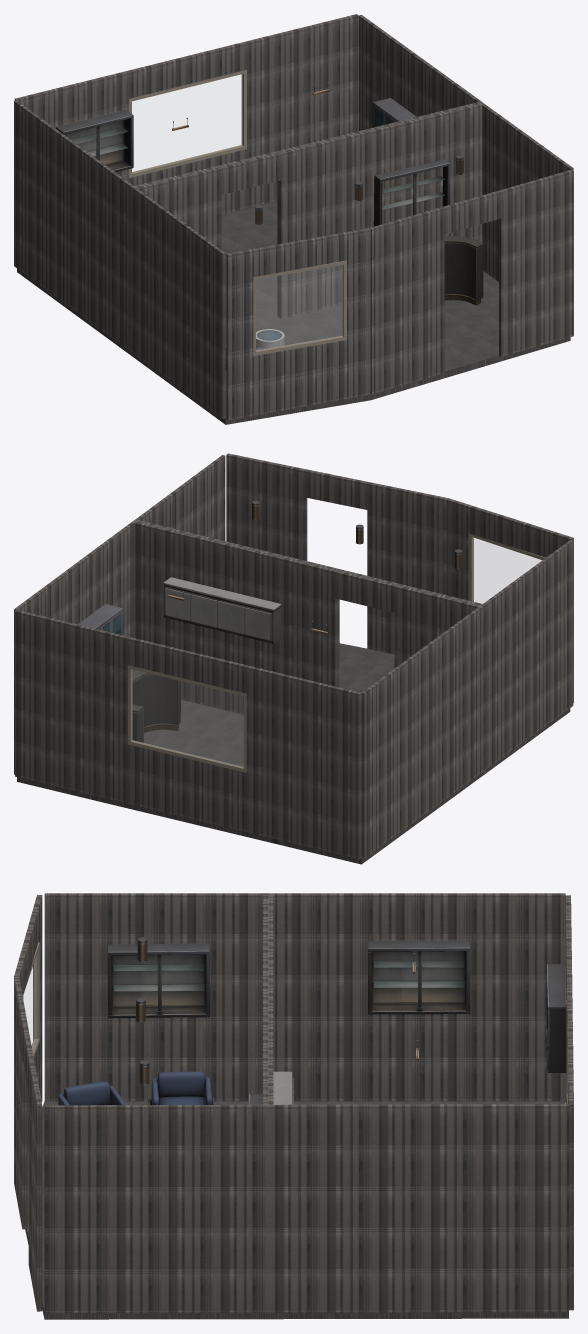
Rendered from modern-office.glb.
The picture shows the model from 3 angles, top to bottom: view 1: azimuth 30°, elevation 25°; view 2: azimuth 150°, elevation 25°; view 3: azimuth 270°, elevation 25°; orthographic projection. The views are drawn at different scales.
Parts seen in each view (by area): view 1: geometry_0.018, geometry_0.004, geometry_0.002, geometry_0.003, geometry_0.017, geometry_0.016, geometry_0.015, glass, geometry_0.001, glass.001, geometry_0.019, geometry_0 (+8 smaller); view 2: geometry_0.002, geometry_0.020, geometry_0.003, geometry_0.018, geometry_0.016, glass, geometry_0.001, geometry_0, geometry_0.011, geometry_0.017, geometry_0.019, geometry_0.006 (+6 smaller); view 3: geometry_0.001, geometry_0.003, geometry_0.019, geometry_0.016, geometry_0.007, geometry_0.026, geometry_0.018, geometry_0, geometry_0.015, geometry_0.002, geometry_0.005, geometry_0.017 (+7 smaller).
Part boxes in pixels (x1=…): geometry_0.018: x1=370, y1=169, x2=573, y2=394; geometry_0.004: x1=136, y1=103, x2=482, y2=318; geometry_0.002: x1=14, y1=14, x2=358, y2=214; geometry_0.003: x1=14, y1=100, x2=135, y2=352; geometry_0.017: x1=226, y1=228, x2=371, y2=420; geometry_0.016: x1=133, y1=187, x2=225, y2=418; geometry_0.015: x1=136, y1=271, x2=570, y2=424; glass: x1=132, y1=74, x2=242, y2=172; geometry_0.001: x1=359, y1=15, x2=482, y2=130; glass.001: x1=256, y1=265, x2=342, y2=350; geometry_0.019: x1=480, y1=103, x2=573, y2=281; geometry_0: x1=17, y1=201, x2=278, y2=358; geometry_0.002: x1=15, y1=610, x2=361, y2=859; geometry_0.020: x1=134, y1=521, x2=480, y2=714; geometry_0.003: x1=361, y1=605, x2=483, y2=858; geometry_0.018: x1=226, y1=453, x2=448, y2=654; geometry_0.016: x1=481, y1=540, x2=573, y2=770; glass: x1=132, y1=670, x2=243, y2=766; geometry_0.001: x1=14, y1=521, x2=135, y2=774; geometry_0: x1=17, y1=699, x2=480, y2=864; geometry_0.011: x1=163, y1=577, x2=281, y2=644; geometry_0.017: x1=446, y1=498, x2=573, y2=703; geometry_0.019: x1=134, y1=455, x2=225, y2=540; geometry_0.006: x1=132, y1=670, x2=180, y2=742; geometry_0.001: x1=268, y1=1104, x2=568, y2=1312; geometry_0.003: x1=268, y1=893, x2=565, y2=1101; geometry_0.019: x1=44, y1=1104, x2=268, y2=1313; geometry_0.016: x1=44, y1=893, x2=268, y2=1101; geometry_0.007: x1=368, y1=940, x2=470, y2=1014; geometry_0.026: x1=107, y1=943, x2=210, y2=1018; geometry_0.018: x1=14, y1=976, x2=42, y2=1311; geometry_0: x1=268, y1=1101, x2=568, y2=1319; geometry_0.015: x1=25, y1=1101, x2=268, y2=1319; geometry_0.002: x1=565, y1=895, x2=573, y2=1310; geometry_0.005: x1=546, y1=964, x2=566, y2=1072; geometry_0.017: x1=14, y1=895, x2=42, y2=1151.
Bounding box in the file's own units: 6.22 × 2.91 × 6.89.
Materials: 13 (11 with a texture image).
